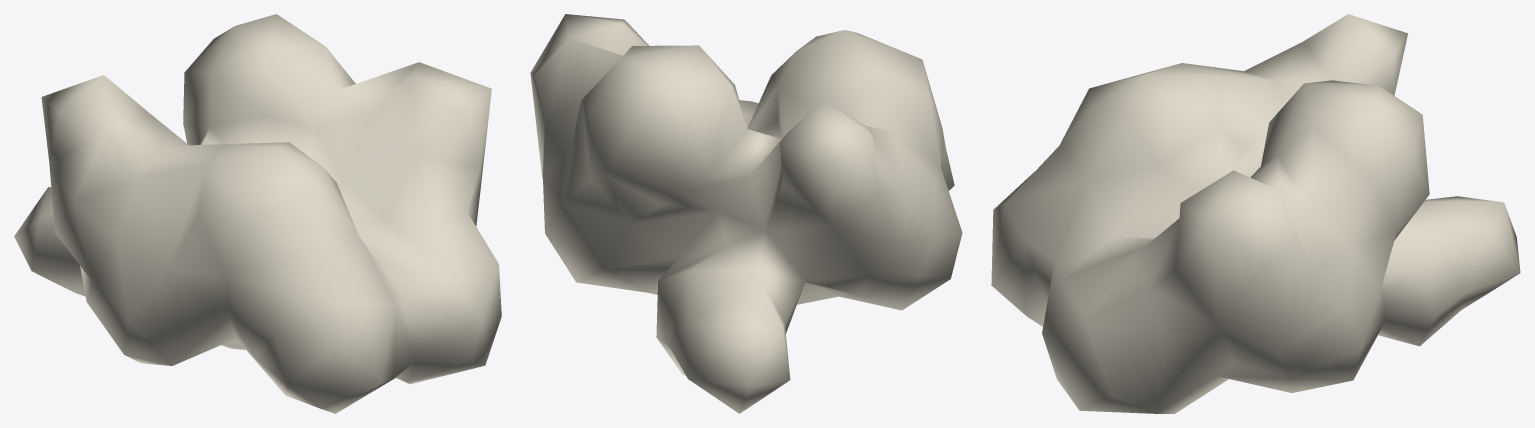
Rendered from Popcorn_Small.fbx.
3 renders of one model, left to right at view 1: azimuth 30°, elevation 25°; view 2: azimuth 150°, elevation 25°; view 3: azimuth 270°, elevation 25°, orthographic. The views are drawn at different scales.
Parts seen in each view (by area): view 1: Popcorn_Small; view 2: Popcorn_Small; view 3: Popcorn_Small.
Boxes of the visible parts, box(x1,y1,x2,y2) form: Popcorn_Small: box(14, 14, 501, 413); Popcorn_Small: box(530, 14, 962, 413); Popcorn_Small: box(991, 14, 1520, 413).
Size of the model in its own units: 0.8595 by 0.6038 by 0.9715.
